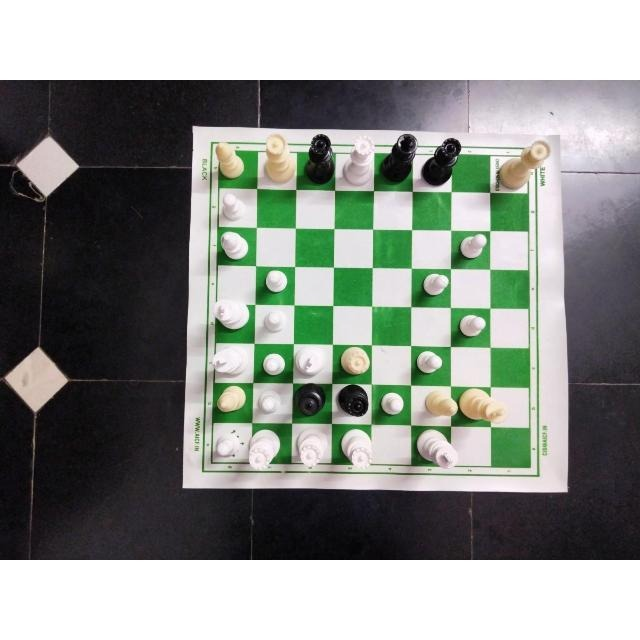black-king: (382, 134, 418, 184)
black-queen: (423, 138, 461, 186), (305, 134, 335, 186), (337, 383, 369, 419), (291, 383, 324, 417)
white-bishop: (214, 142, 246, 178), (219, 229, 249, 261), (423, 390, 456, 418), (216, 385, 248, 413)
white-king: (458, 388, 510, 424), (415, 427, 459, 469), (211, 343, 249, 376), (212, 299, 249, 331), (293, 344, 327, 376)
white-pawn: (219, 192, 249, 222), (418, 272, 449, 297), (460, 232, 487, 260), (417, 348, 443, 376), (378, 391, 406, 416), (215, 433, 241, 459), (458, 314, 486, 338), (257, 388, 282, 414), (262, 268, 289, 292), (260, 351, 285, 376), (262, 310, 286, 334)
white-queen: (496, 139, 551, 190), (260, 133, 296, 185), (342, 134, 374, 186), (339, 427, 373, 471), (247, 428, 281, 470), (295, 429, 329, 468), (335, 345, 370, 376)
